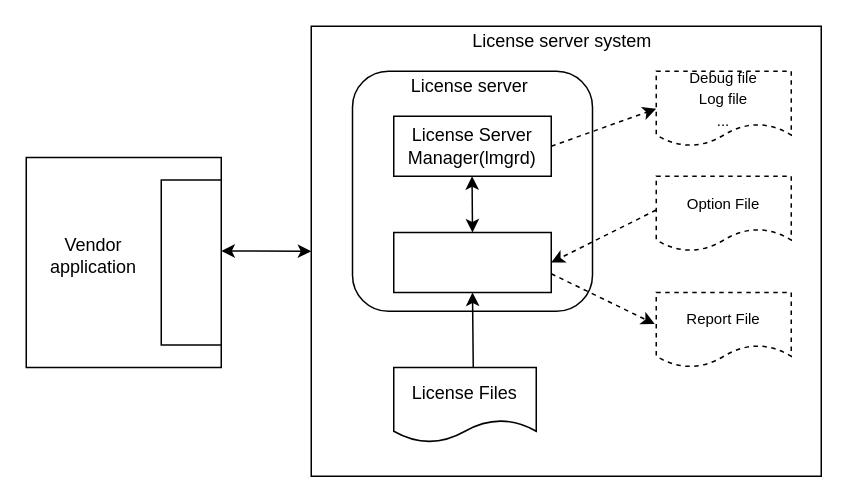
Some shapes in this 848 by 503 pixel diagram are drawn without their labels. Each missing label, with the centre of its shape:
"FlexNet Client lib" belongs at pixel 190 261.
"Vendor Deamon(HPQ)" belongs at pixel 471 261.
